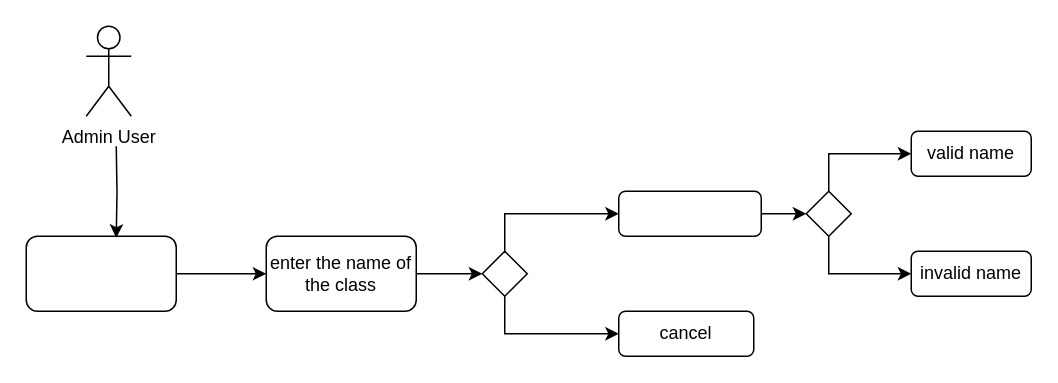
Image size: 1058x383. Some labels were removed from this diagram. The shapes that lost their labels are listed below. From the top down, each one's box as (x1, y1, x2, y2) in pixels, then its label:
(617, 190, 761, 236): save
(25, 235, 176, 311): Click on "create a class"
